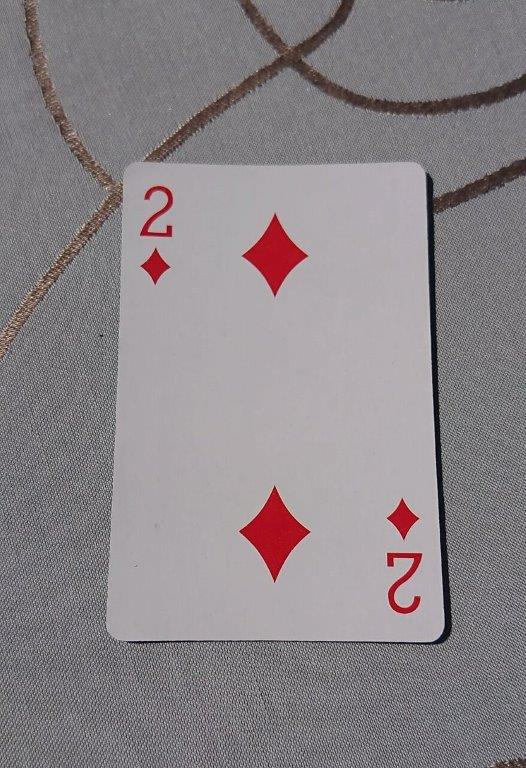2D: (104, 159, 447, 647)
